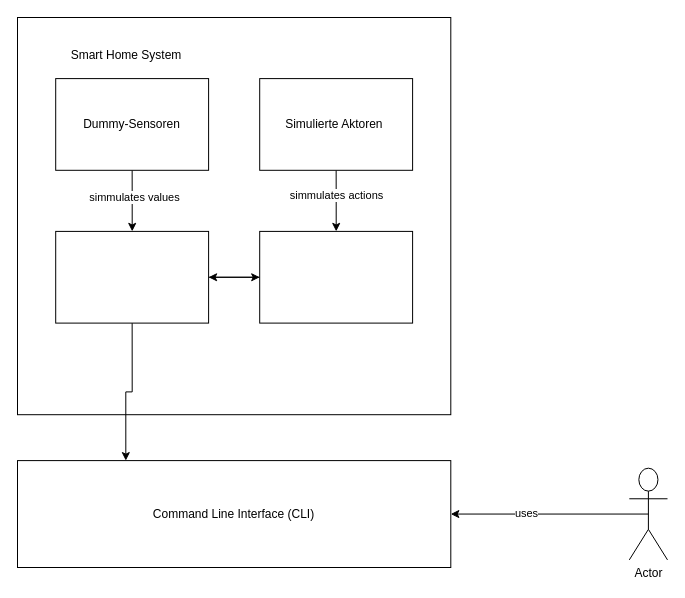
This 685x598 diagram has some shape labels left out. Each missing label, with the box of its shape:
Datenverarbeitung: (259, 230, 413, 323)
Steuerungslogik: (55, 230, 209, 323)
